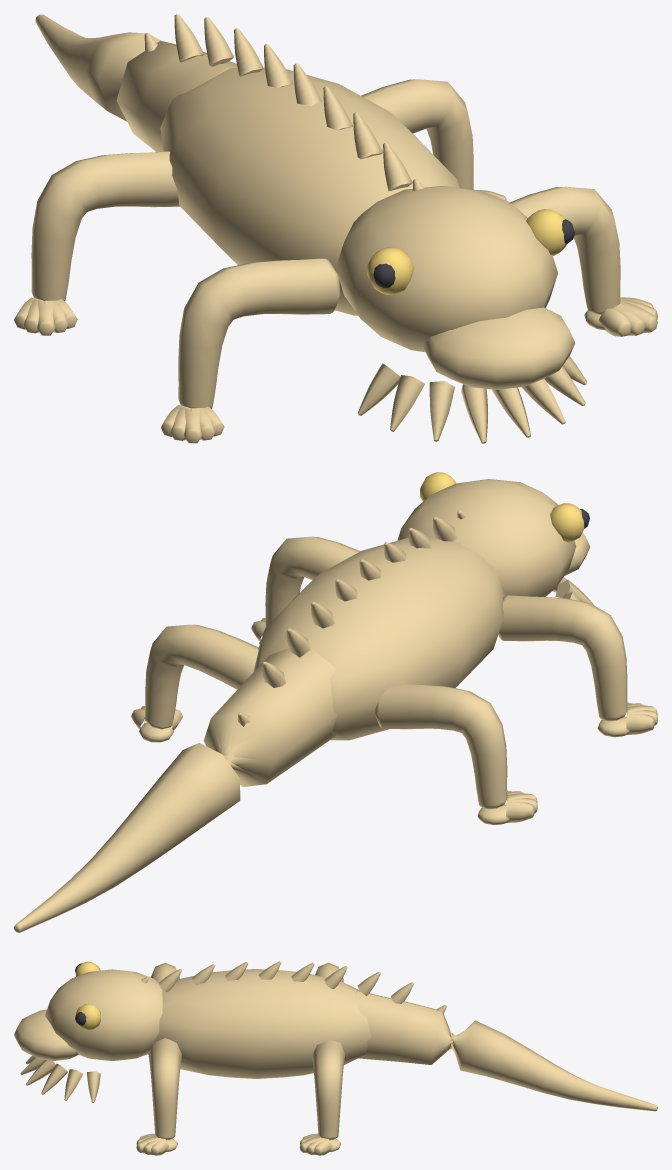
The model's file is reptiles-amphibians-and-minibeasts-bearded-dragon-e483e52f__22427.glb.
3 renders of one model, top to bottom at view 1: azimuth 30°, elevation 25°; view 2: azimuth 150°, elevation 25°; view 3: azimuth 270°, elevation 25°, orthographic. The views are drawn at different scales.
Visible parts, largest first — view 1: bearded-dragon; view 2: bearded-dragon; view 3: bearded-dragon.
Boxes of the visible parts, bbox=[...] form: bearded-dragon: bbox=[14, 14, 657, 443]; bearded-dragon: bbox=[14, 472, 657, 932]; bearded-dragon: bbox=[14, 961, 657, 1155].
Bounding box in the file's own units: 0.2204 × 0.1023 × 0.45.
